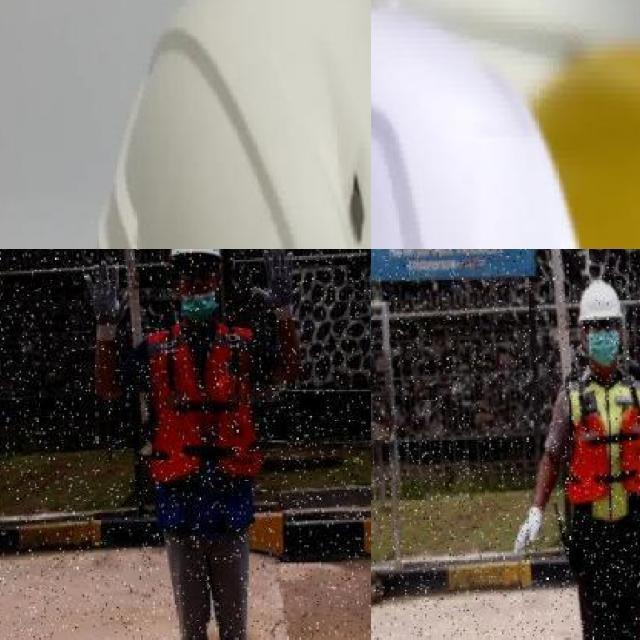apron: (84, 259, 130, 344), (251, 249, 294, 323), (514, 504, 544, 556)
